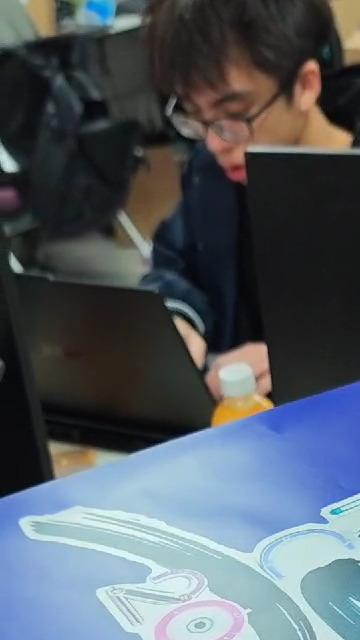B_R1: (30, 474, 360, 640)
